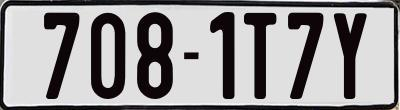0: (88, 12, 122, 101)
1: (209, 12, 237, 103)
7: (42, 11, 79, 99), (287, 12, 324, 100)
8: (136, 10, 172, 100)
T: (241, 11, 273, 99)
Y: (331, 11, 369, 98)
